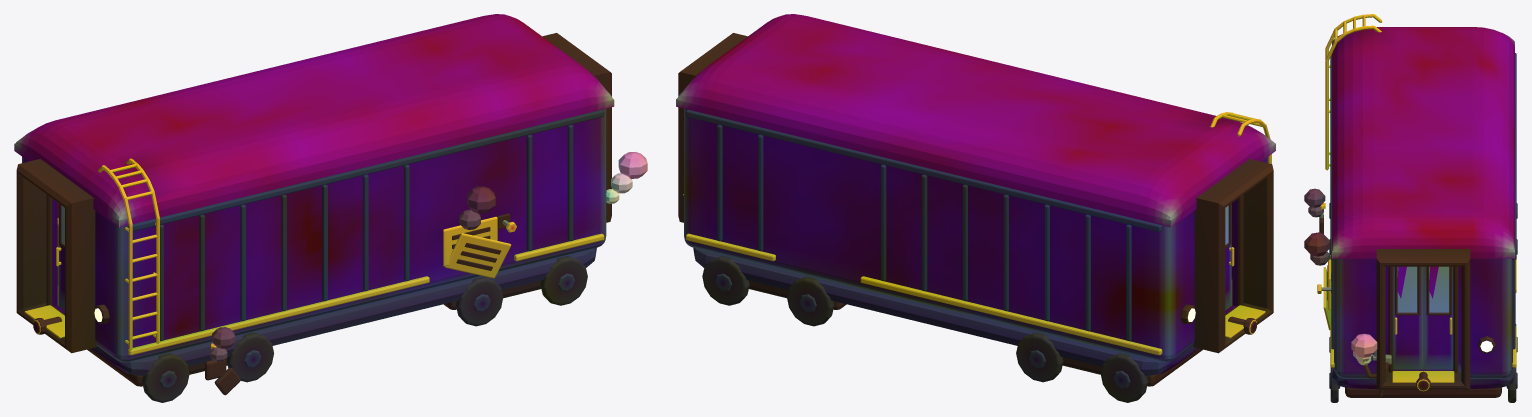
Rendered from CargoWagon_Blockout.glb.
3 renders of one model, left to right at view 1: azimuth 30°, elevation 25°; view 2: azimuth 150°, elevation 25°; view 3: azimuth 270°, elevation 25°, orthographic. The views are drawn at different scales.
Visible parts, largest first — view 1: Roof, Body, Underframe, Ends, Livery, Broken_Bits__DoorLatch, RoofLadder, Broken_Bits__BrakeHose, Broken_Bits__AxleBox, Fixed_Rail__DoorLatch, EndDoorLeaf_R_Rear; view 2: Roof, Body, Underframe, Ends, Livery, EndDoorLeaf_L_Rear, RoofLadder; view 3: Roof, Body, Ends, EndDoorLeaf_L_Front, EndDoorLeaf_R_Front, Underframe, Livery, RoofLadder, Broken_Bits__DoorLatch, Broken_Bits__BrakeHose, Broken_Bits__AxleBox, Coupler_Front.
Part boxes in pixels (bbox=[...]): Roof: bbox=[14, 14, 614, 227]; Body: bbox=[22, 109, 606, 362]; Underframe: bbox=[87, 248, 596, 402]; Ends: bbox=[16, 33, 611, 353]; Livery: bbox=[128, 109, 604, 355]; Broken_Bits__DoorLatch: bbox=[445, 186, 511, 278]; RoofLadder: bbox=[98, 158, 159, 350]; Broken_Bits__BrakeHose: bbox=[606, 152, 647, 203]; Broken_Bits__AxleBox: bbox=[210, 327, 240, 395]; Fixed_Rail__DoorLatch: bbox=[443, 216, 497, 266]; EndDoorLeaf_R_Rear: bbox=[56, 203, 64, 310]; Roof: bbox=[676, 14, 1275, 227]; Body: bbox=[684, 108, 1267, 362]; Underframe: bbox=[693, 248, 1202, 402]; Ends: bbox=[678, 33, 1273, 353]; Livery: bbox=[686, 109, 1162, 355]; EndDoorLeaf_L_Rear: bbox=[1225, 203, 1234, 310]; RoofLadder: bbox=[1210, 112, 1271, 163]; Roof: bbox=[1332, 27, 1514, 258]; Body: bbox=[1334, 258, 1512, 378]; Ends: bbox=[1353, 249, 1495, 389]; EndDoorLeaf_L_Front: bbox=[1393, 266, 1423, 369]; EndDoorLeaf_R_Front: bbox=[1423, 266, 1453, 369]; Underframe: bbox=[1329, 203, 1517, 402]; Livery: bbox=[1330, 53, 1516, 367]; RoofLadder: bbox=[1325, 14, 1382, 170]; Broken_Bits__DoorLatch: bbox=[1304, 232, 1331, 330]; Broken_Bits__BrakeHose: bbox=[1351, 333, 1389, 397]; Broken_Bits__AxleBox: bbox=[1304, 188, 1325, 233]; Coupler_Front: bbox=[1416, 371, 1430, 391].
Size of the model in its own units: 8.45 by 3.21 by 3.1.
